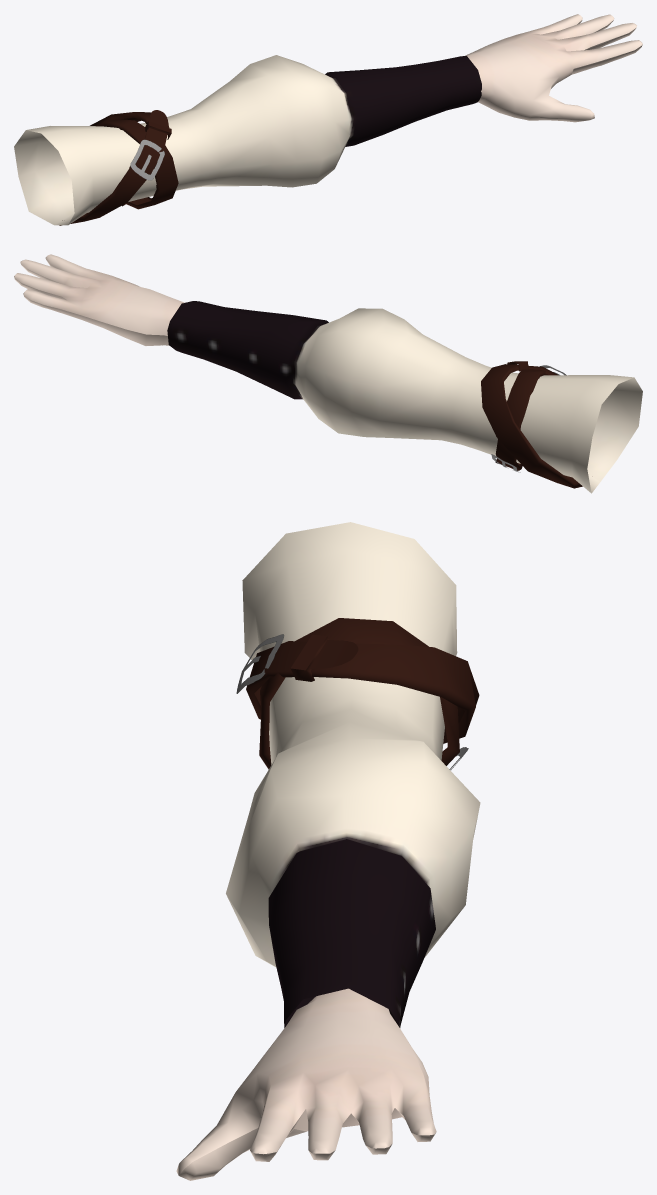
Rendered from RubyBrazoIzq.obj.
3 views of the same model, one above another, from view 1: azimuth 30°, elevation 25°; view 2: azimuth 150°, elevation 25°; view 3: azimuth 270°, elevation 25° (orthographic). The views are drawn at different scales.
Parts seen in each view (by area): view 1: node_id28.002_Material_0; view 2: node_id28.002_Material_0; view 3: node_id28.002_Material_0.
Boxes of the visible parts, <box> form: node_id28.002_Material_0: <box>14,14,642,225</box>; node_id28.002_Material_0: <box>14,254,642,493</box>; node_id28.002_Material_0: <box>176,522,480,1180</box>.
Size of the model in its own units: 0.1215 by 0.0222 by 0.0272.
